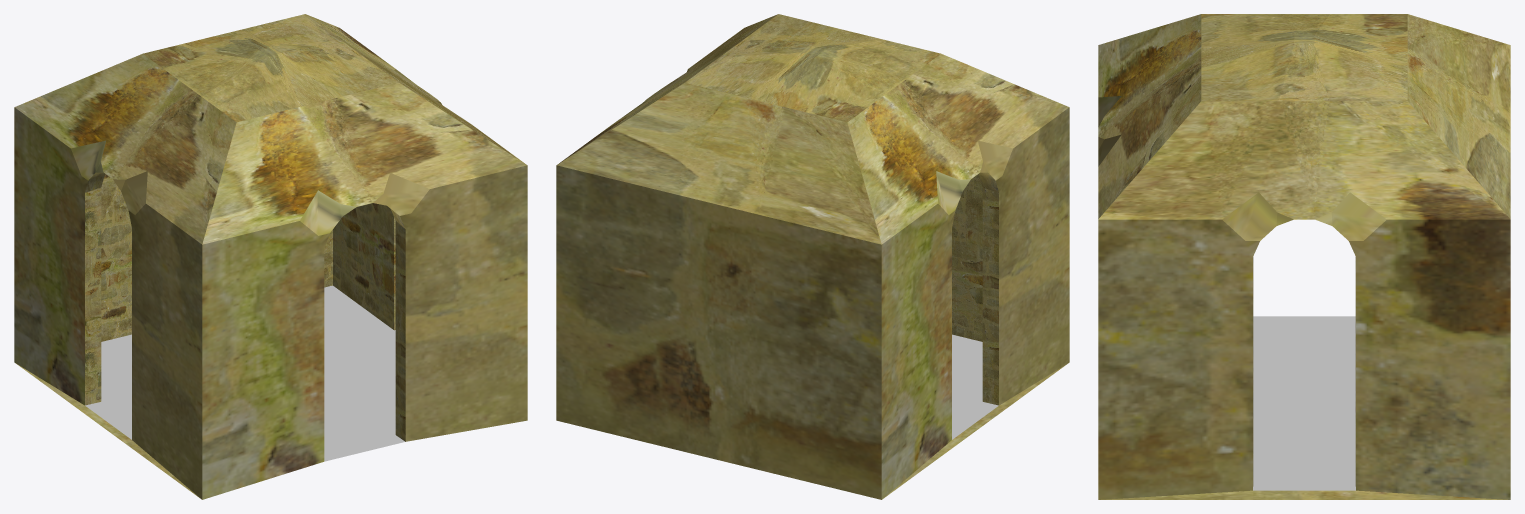
The model's file is cell-1-3way.fbx.
The picture shows the model from 3 angles, left to right: view 1: azimuth 30°, elevation 25°; view 2: azimuth 150°, elevation 25°; view 3: azimuth 270°, elevation 25°; orthographic projection. The views are drawn at different scales.
Visible parts, largest first — view 1: cell-3-way; view 2: cell-3-way; view 3: cell-3-way.
Boxes of the visible parts, left/top/right/bottom form: cell-3-way: left=14, top=14, right=527, bottom=499; cell-3-way: left=556, top=14, right=1069, bottom=499; cell-3-way: left=1098, top=14, right=1510, bottom=499.
Size of the model in its own units: 400 by 400 by 400.
